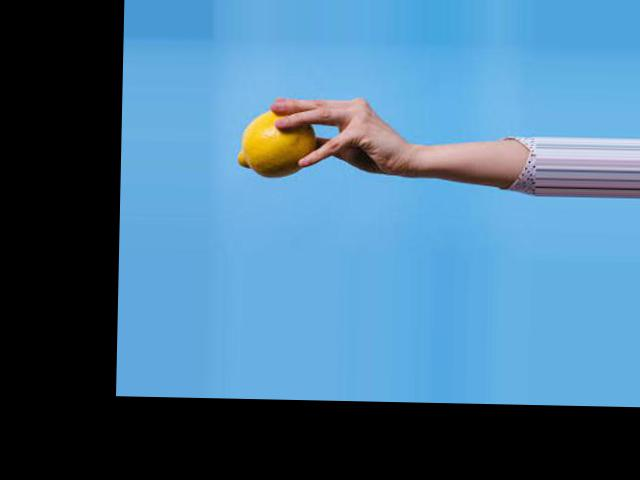lemon: (234, 83, 336, 185)
